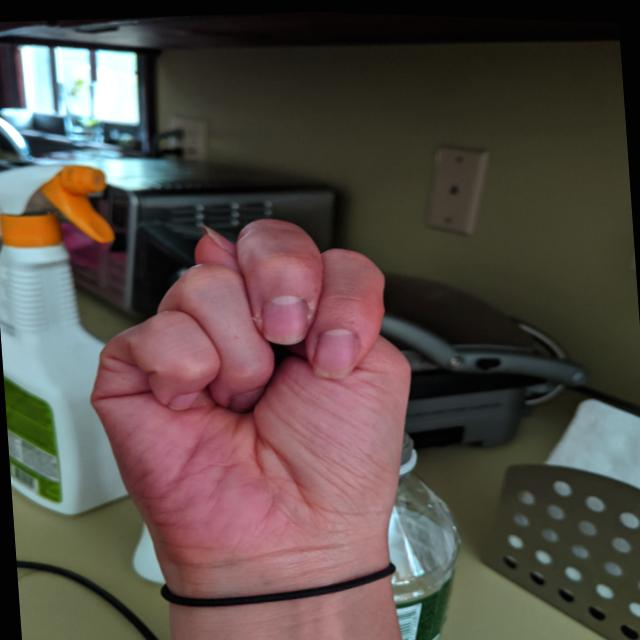N: (70, 193, 430, 582)
